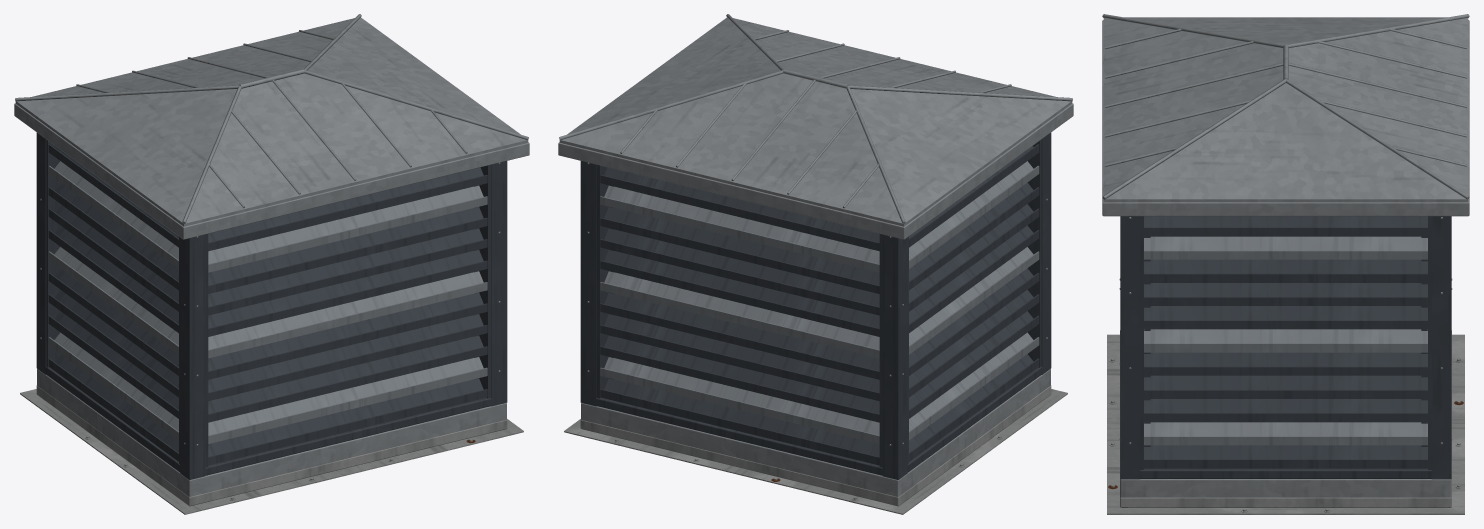
File: louvred_penthouse.glb
3 views of the same model, side by side, from view 1: azimuth 30°, elevation 25°; view 2: azimuth 150°, elevation 25°; view 3: azimuth 270°, elevation 25° (orthographic). The views are drawn at different scales.
Visible parts, largest first — view 1: part_louvre_s_LOD0, part_roof_LOD0, part_louvre_w_LOD0, part_base_LOD0, part_frame_LOD0; view 2: part_louvre_n_LOD0, part_roof_LOD0, part_louvre_w_LOD0, part_base_LOD0, part_frame_LOD0; view 3: part_louvre_e_LOD0, part_roof_LOD0, part_base_LOD0, part_frame_LOD0.
Part boxes in pixels (bbox=[...]): part_louvre_s_LOD0: bbox=[205, 165, 491, 467]; part_roof_LOD0: bbox=[14, 14, 529, 239]; part_louvre_w_LOD0: bbox=[46, 139, 180, 464]; part_base_LOD0: bbox=[20, 369, 523, 514]; part_frame_LOD0: bbox=[36, 132, 507, 479]; part_louvre_n_LOD0: bbox=[596, 165, 882, 467]; part_roof_LOD0: bbox=[558, 14, 1073, 239]; part_louvre_w_LOD0: bbox=[907, 139, 1041, 464]; part_base_LOD0: bbox=[564, 369, 1067, 514]; part_frame_LOD0: bbox=[580, 132, 1051, 479]; part_louvre_e_LOD0: bbox=[1140, 216, 1431, 469]; part_roof_LOD0: bbox=[1102, 14, 1469, 216]; part_base_LOD0: bbox=[1107, 330, 1464, 514]; part_frame_LOD0: bbox=[1119, 216, 1452, 479].
Size of what is drawn, in the model's own units: 1.31 by 1.21 by 1.11.
8 materials, 8 textured.
